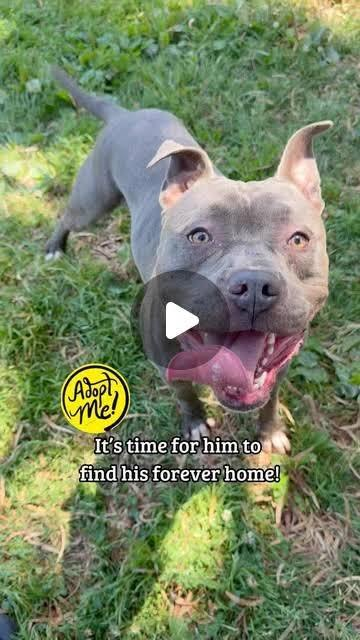adult_dog: (45, 63, 335, 462)
